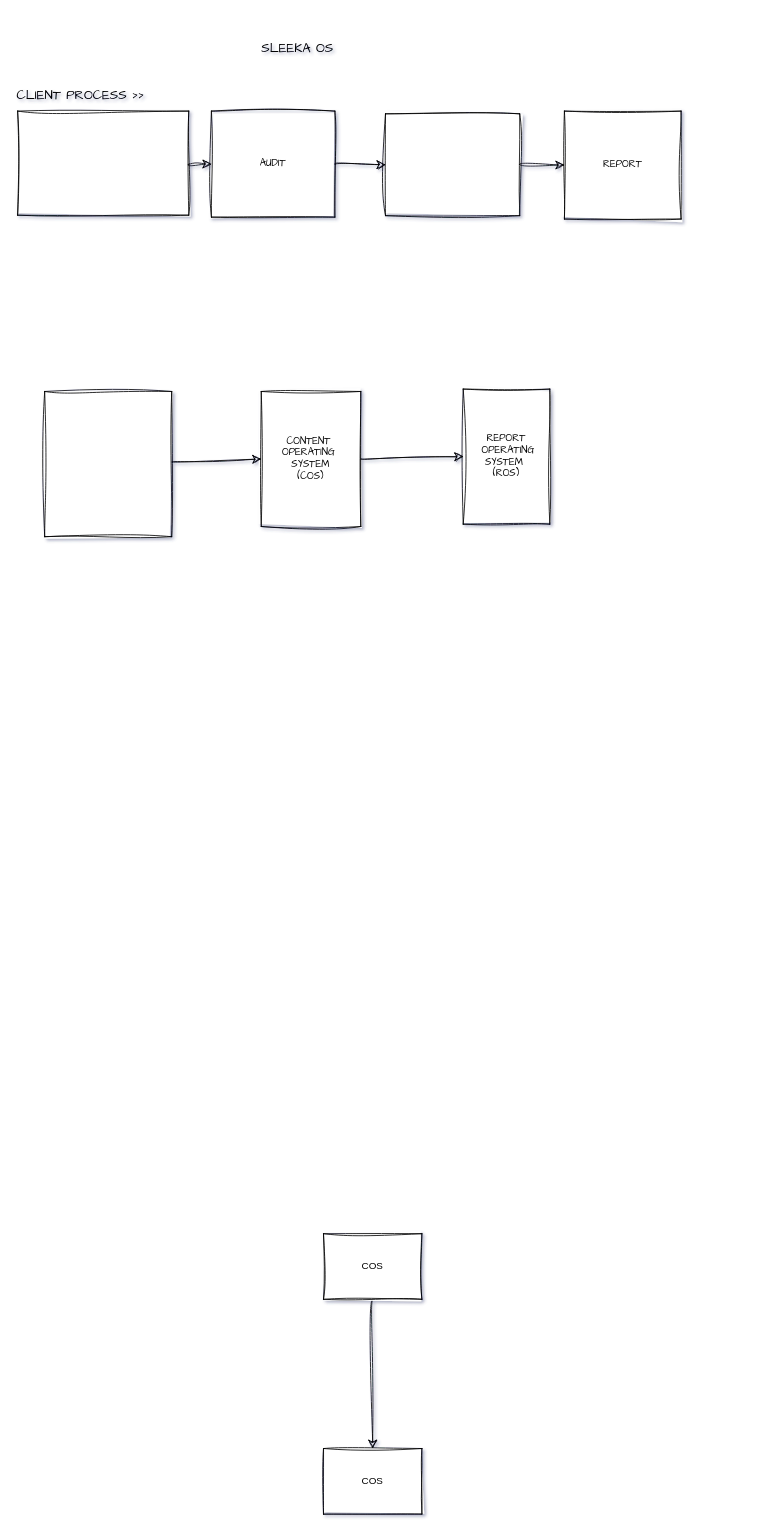
Image size: 761x1533. Some labels were removed from this diagram. Here are the shapes that lost their labels. From the top down, the centre of each, then its label:
At (x=103, y=162): "ONBOARDING".
At (x=452, y=164): "CONTENT MANAGEMENT".
At (x=108, y=464): "CLIENT VIEW".
